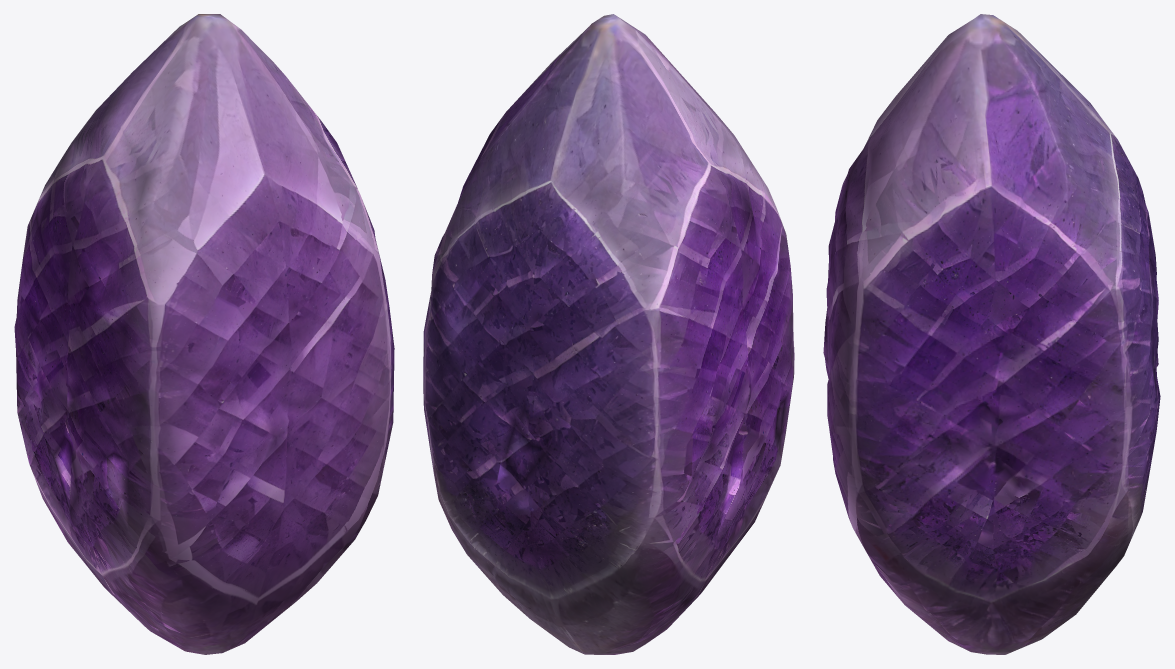
The model's file is purple_crystal_Gems_0817042208_refine.fbx.
3 views of the same model, side by side, from view 1: azimuth 30°, elevation 25°; view 2: azimuth 150°, elevation 25°; view 3: azimuth 270°, elevation 25° (orthographic).
Visible parts, largest first — view 1: Mesh_0; view 2: Mesh_0; view 3: Mesh_0.
Boxes of the visible parts, box(x1,y1,x2,y2) form: Mesh_0: box(14, 14, 394, 654); Mesh_0: box(423, 14, 794, 654); Mesh_0: box(823, 14, 1160, 654).
Bounding box in the file's own units: 55.46 × 119 × 57.74.
1 material, 1 textured.
